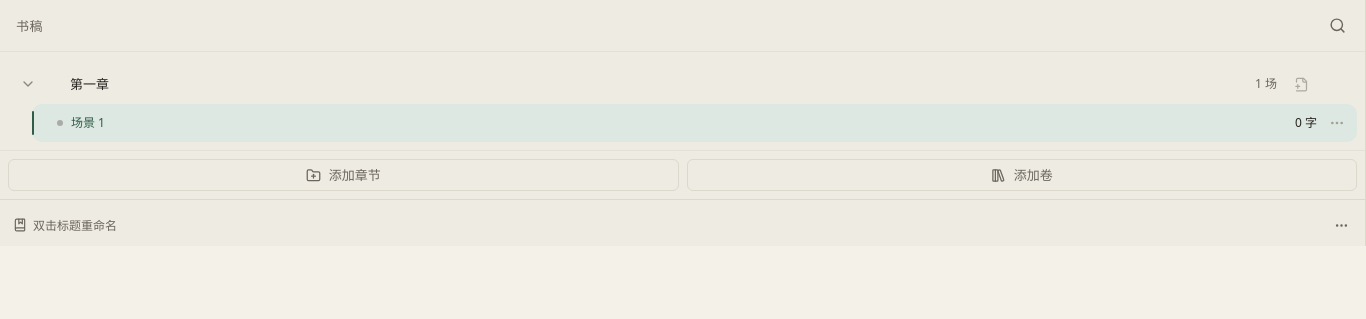
Scenario: ManuscriptTree footer actions › labels structural counts and keeps secondary scene actions in one contextual menu
The width and height of the screenshot is (1366, 319).
expect the text "1 场" is shown: met, box x1=1255 y1=76 x2=1277 y2=92
expect the text "0 字" is shown: met, box x1=1295 y1=115 x2=1317 y2=131
Click the button named "场景 1 更多操作" at point(1337, 123), box x1=1321 y1=107 x2=1353 y2=139
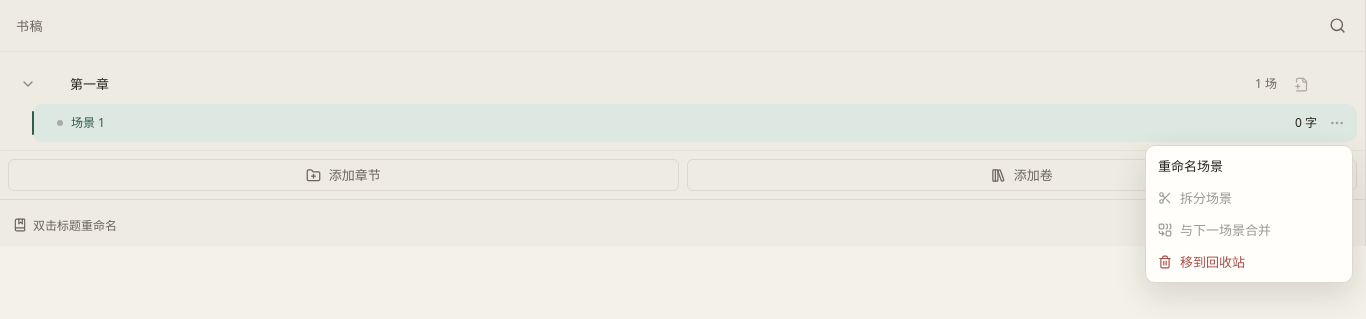
expect the menu item "重命名场景" is shown: met, box x1=1158 y1=157 x2=1223 y2=175
expect the menu item "移到回收站" is shown: met, box x1=1158 y1=253 x2=1245 y2=271
